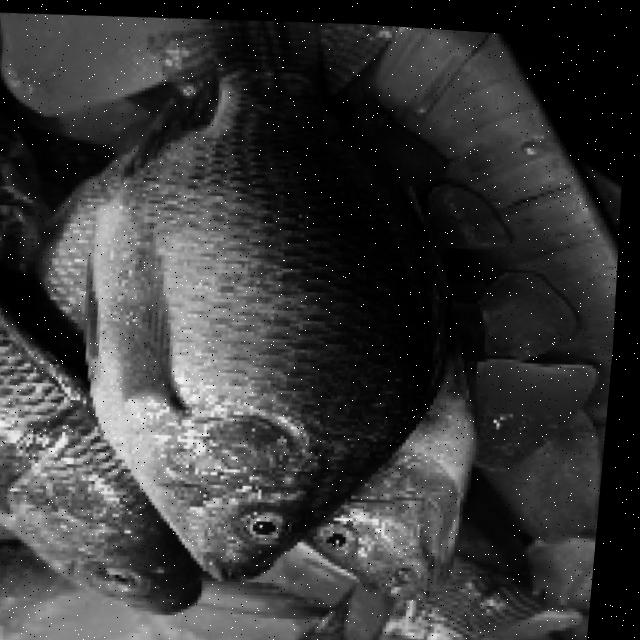Fresh: (93, 7, 462, 593), (0, 224, 195, 607), (295, 373, 521, 627)
